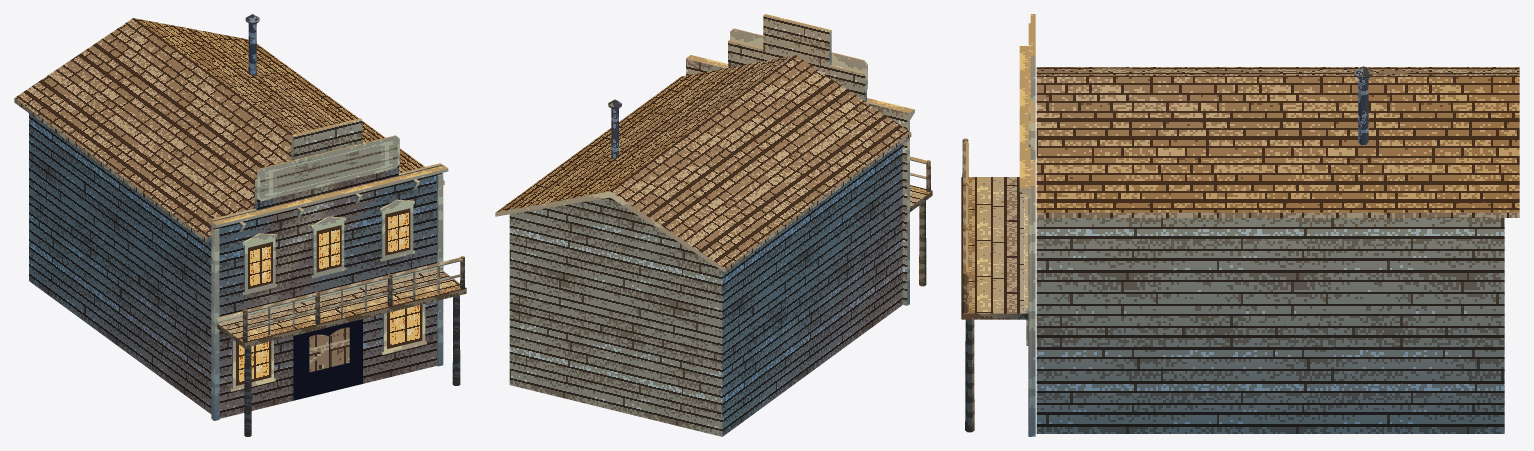
File: wtown.saloon__entry.glb
3 views of the same model, side by side, from view 1: azimuth 30°, elevation 25°; view 2: azimuth 150°, elevation 25°; view 3: azimuth 270°, elevation 25° (orthographic). The views are drawn at different scales.
Parts seen in each view (by area): view 1: kit_roof, kit_body, kit_front, kit_card_panes, kit_balcony, kit_trim, kit_windows, kit_door, kit_stovepipe; view 2: kit_body, kit_roof, kit_front, kit_trim, kit_balcony, kit_stovepipe; view 3: kit_body, kit_roof, kit_balcony, kit_trim, kit_front, kit_stovepipe.
Part boxes in pixels (box(x1,y1,x2,y2)): kit_roof: box(14, 18, 444, 242); kit_body: box(29, 113, 399, 413); kit_front: box(211, 118, 442, 419); kit_card_panes: box(236, 138, 422, 400); kit_balcony: box(217, 256, 466, 436); kit_trim: box(211, 135, 448, 420); kit_windows: box(230, 199, 426, 391); kit_door: box(309, 327, 349, 372); kit_stovepipe: box(245, 14, 259, 75); kit_body: box(509, 143, 902, 436); kit_roof: box(495, 55, 911, 272); kit_front: box(686, 14, 909, 305); kit_trim: box(686, 28, 914, 304); kit_balcony: box(910, 156, 932, 286); kit_stovepipe: box(608, 99, 621, 158); kit_body: box(1036, 218, 1504, 433); kit_roof: box(1036, 67, 1519, 217); kit_balcony: box(961, 138, 1028, 432); kit_trim: box(1019, 23, 1031, 436); kit_front: box(1030, 14, 1035, 436); kit_stovepipe: box(1354, 66, 1372, 145).
Bounding box in the file's own units: 8.1 × 8.7 × 13.12.
Materials: 12 (12 with a texture image).
